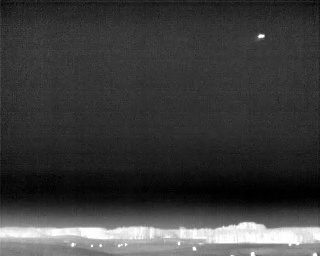AIRPLANE: (255, 31, 267, 42)
